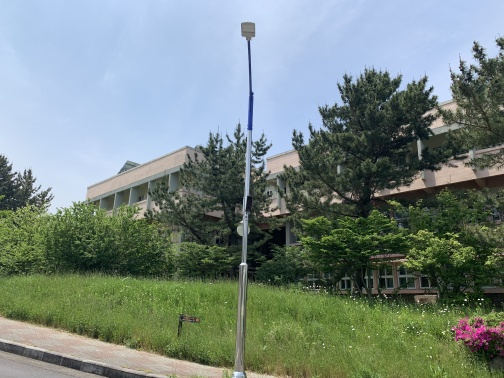College Of Education: (73, 94, 504, 308)
